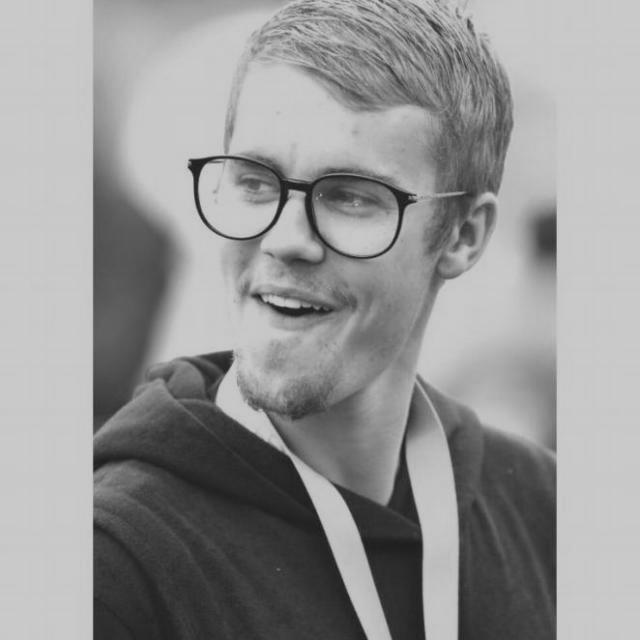real: (210, 72, 434, 416)
